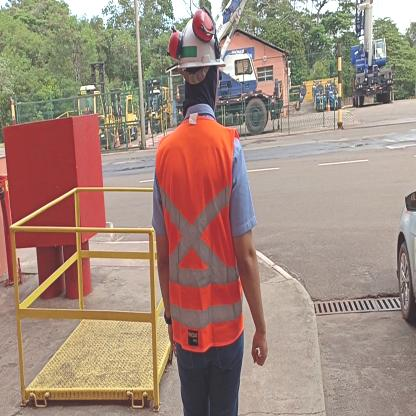Balaclava: (184, 68, 218, 113)
Capacete: (170, 13, 223, 68)
colete: (158, 127, 250, 348)
